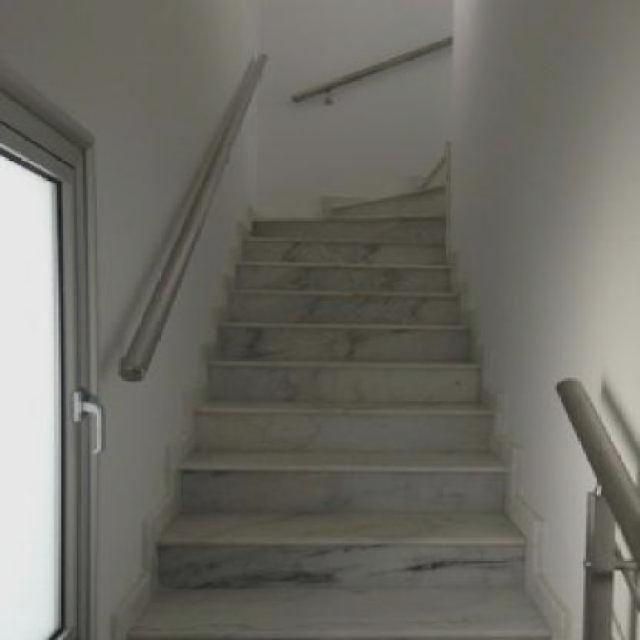stair: (106, 4, 603, 638)
